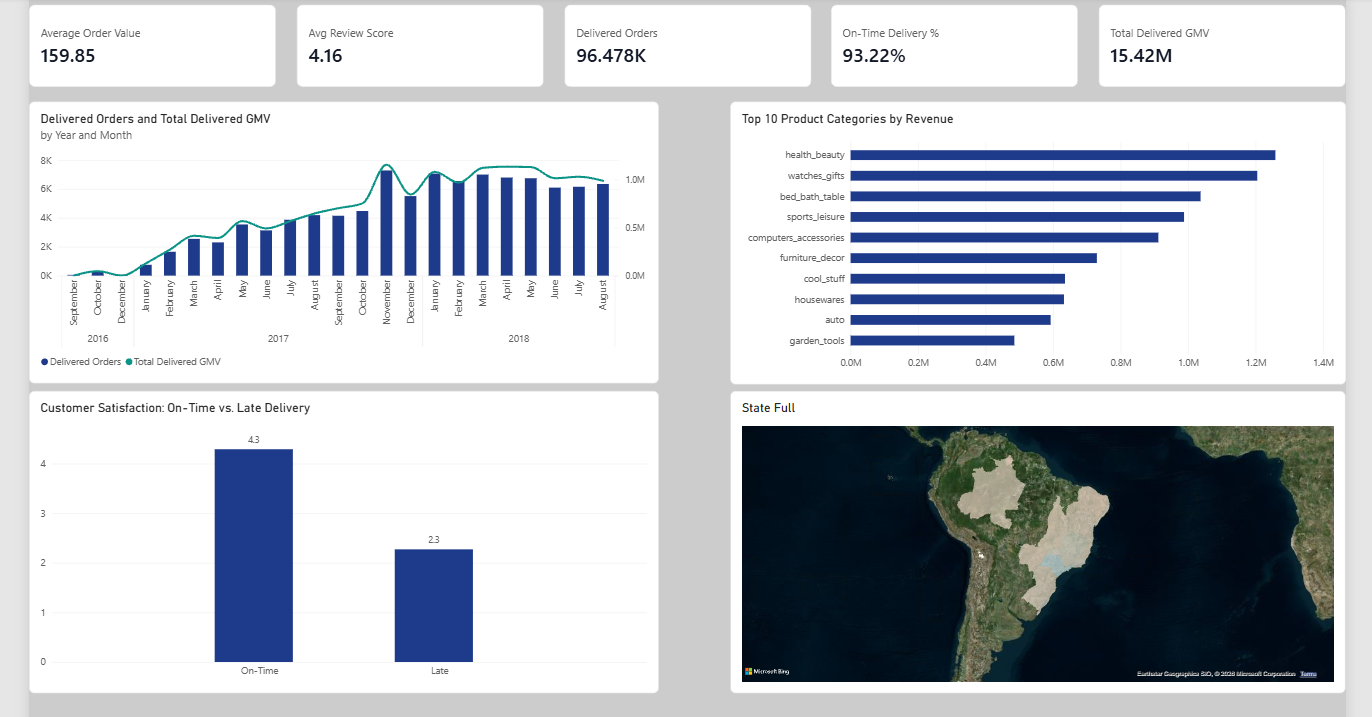

The page's visual inventory and layout, read from the dashboard file:
{"tool":"powerbi","page":{"name":"Executive Command Center","canvas":[1920,1080],"ordinal":0},"visuals":[{"type":"cardVisual","fields":{"Data":["_Measures.Average Order Value"]},"box":[0,11.2,360,120],"z":0},{"type":"cardVisual","fields":{"Data":["_Measures.Avg Review Score"]},"box":[390,11.2,360,120],"z":1000},{"type":"cardVisual","fields":{"Data":["_Measures.Delivered Orders"]},"box":[780,11.2,360,120],"z":2000},{"type":"cardVisual","fields":{"Data":["_Measures.On-Time Delivery %"]},"box":[1170,11.2,360,120],"z":3000},{"type":"cardVisual","fields":{"Data":["_Measures.Total Delivered GMV"]},"box":[1560,11.2,360,120],"z":4000},{"type":"lineClusteredColumnComboChart","fields":{"Category":["vw_fact_orders.order_date.Variation.Date Hierarchy.Year","vw_fact_orders.order_date.Variation.Date Hierarchy.Month"],"Y":["_Measures.Delivered Orders"],"Y2":["_Measures.Total Delivered GMV"]},"box":[0,152.5,918.5,410.9],"z":5000},{"type":"clusteredBarChart","title":"Top 10 Product Categories by Revenue","fields":{"Category":["vw_dim_products.category_english"],"Y":["Sum(vw_fact_order_items.item_price)"]},"box":[1022.6,152.5,898,412.8],"z":6000},{"type":"clusteredColumnChart","title":"Customer Satisfaction: On-Time vs. Late Delivery","fields":{"Category":["vw_fact_orders.sla_status"],"Y":["_Measures.Avg Review Score"]},"box":[0,574.5,918.5,440.6],"z":7000},{"type":"filledMap","fields":{"Category":["vw_dim_customers.State Full"]},"box":[1023,575,897,441],"z":7001}]}

Visuals, with their boxes on the page's 1920x1080 design canvas (x1, y1, x2, y2). These are canvas units, not pixel positions in the 1372x717 screenshot, which may show the page scaled, cropped or inside an application window:
cardVisual - _Measures.Average Order Value: 0:11:360:131
cardVisual - _Measures.Avg Review Score: 390:11:750:131
cardVisual - _Measures.Delivered Orders: 780:11:1140:131
cardVisual - _Measures.On-Time Delivery %: 1170:11:1530:131
cardVisual - _Measures.Total Delivered GMV: 1560:11:1920:131
lineClusteredColumnComboChart - vw_fact_orders.order_date.Variation.Date Hierarchy.Year x vw_fact_orders.order_date.Variation.Date Hierarchy.Month: 0:152:918:563
"Top 10 Product Categories by Revenue" clusteredBarChart: 1023:152:1921:565
"Customer Satisfaction: On-Time vs. Late Delivery" clusteredColumnChart: 0:574:918:1015
filledMap - vw_dim_customers.State Full: 1023:575:1920:1016
